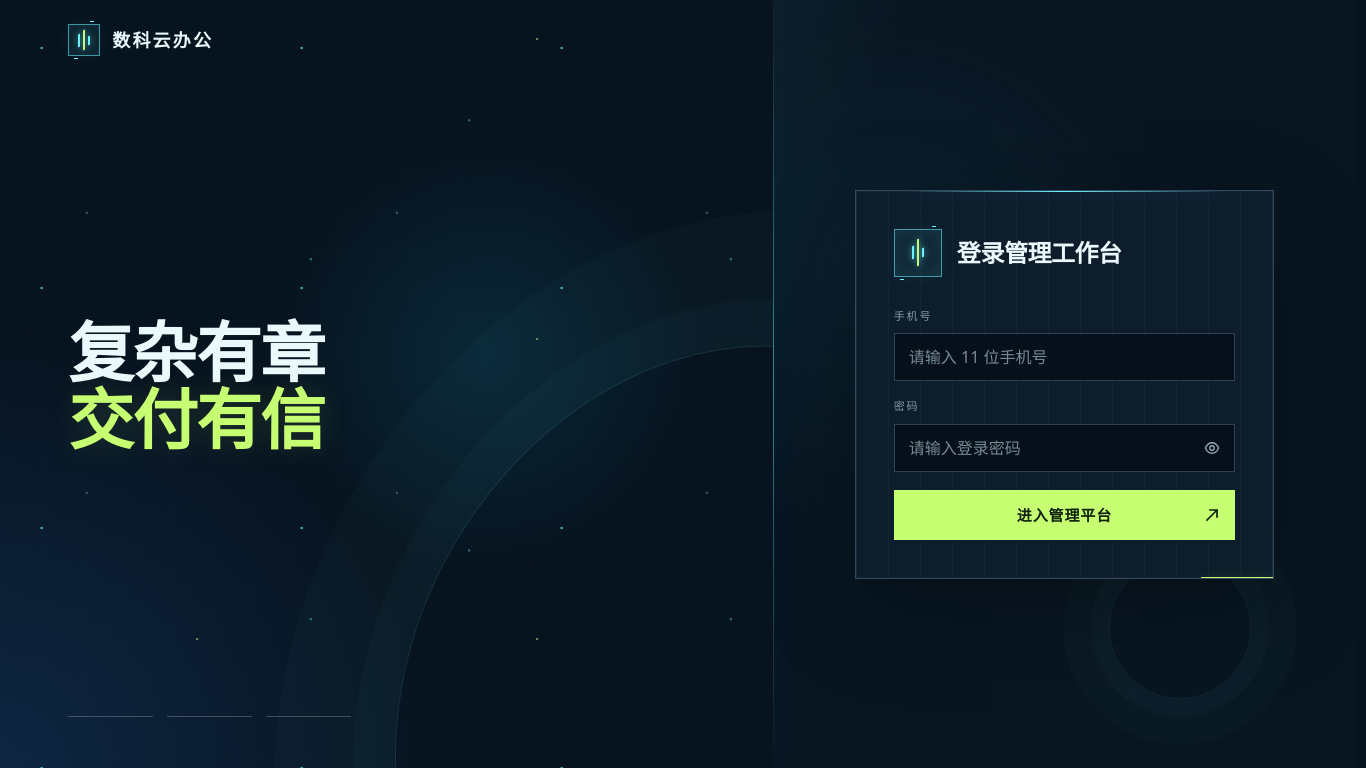
Scenario: LoginPage CTA › returns to an enabled idle button immediately when authentication fails
Type "13800138000" into the field labelled "手机号" at (1064, 357), box x1=894 y1=333 x2=1235 y2=381
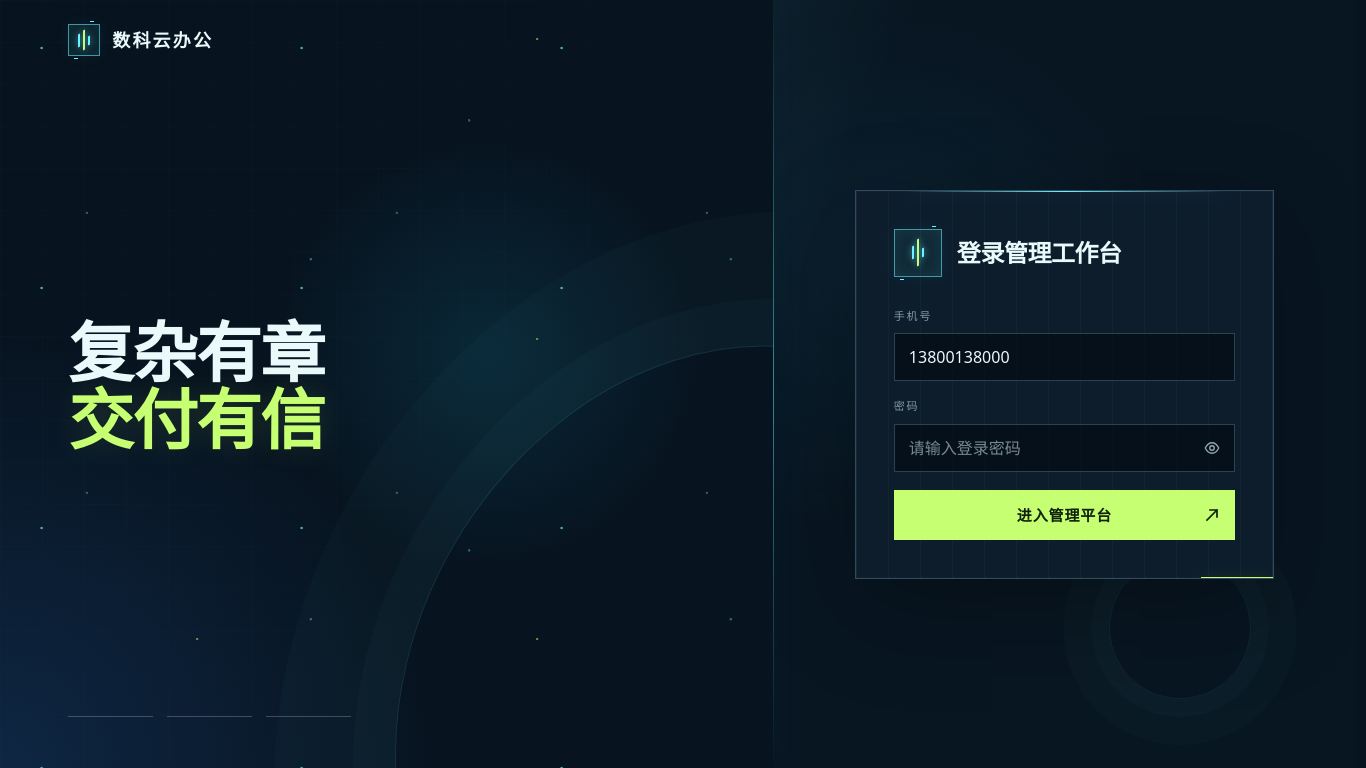
Type "secret" into the password field labelled "密码" at (1064, 448), box x1=894 y1=424 x2=1235 y2=472
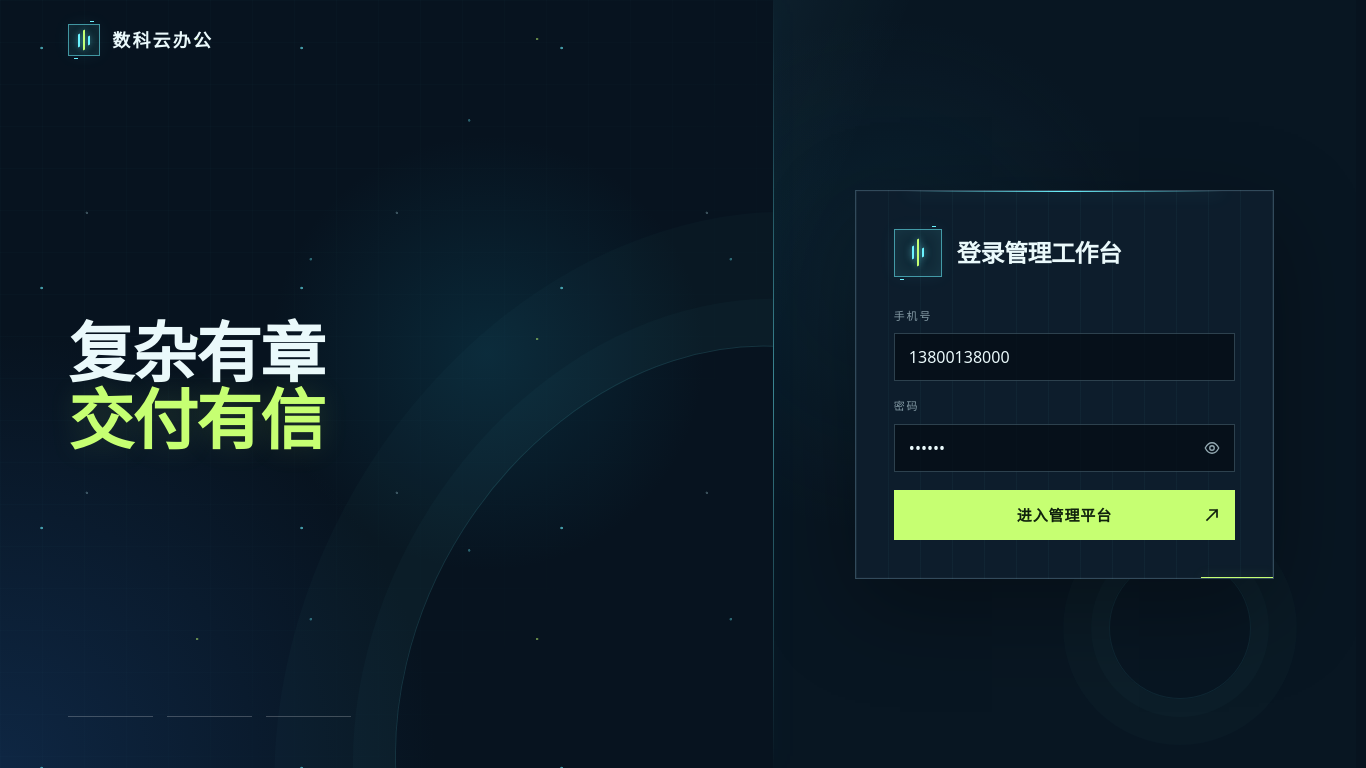
Submit the form labelled "手机号", box x1=894 y1=308 x2=1235 y2=540
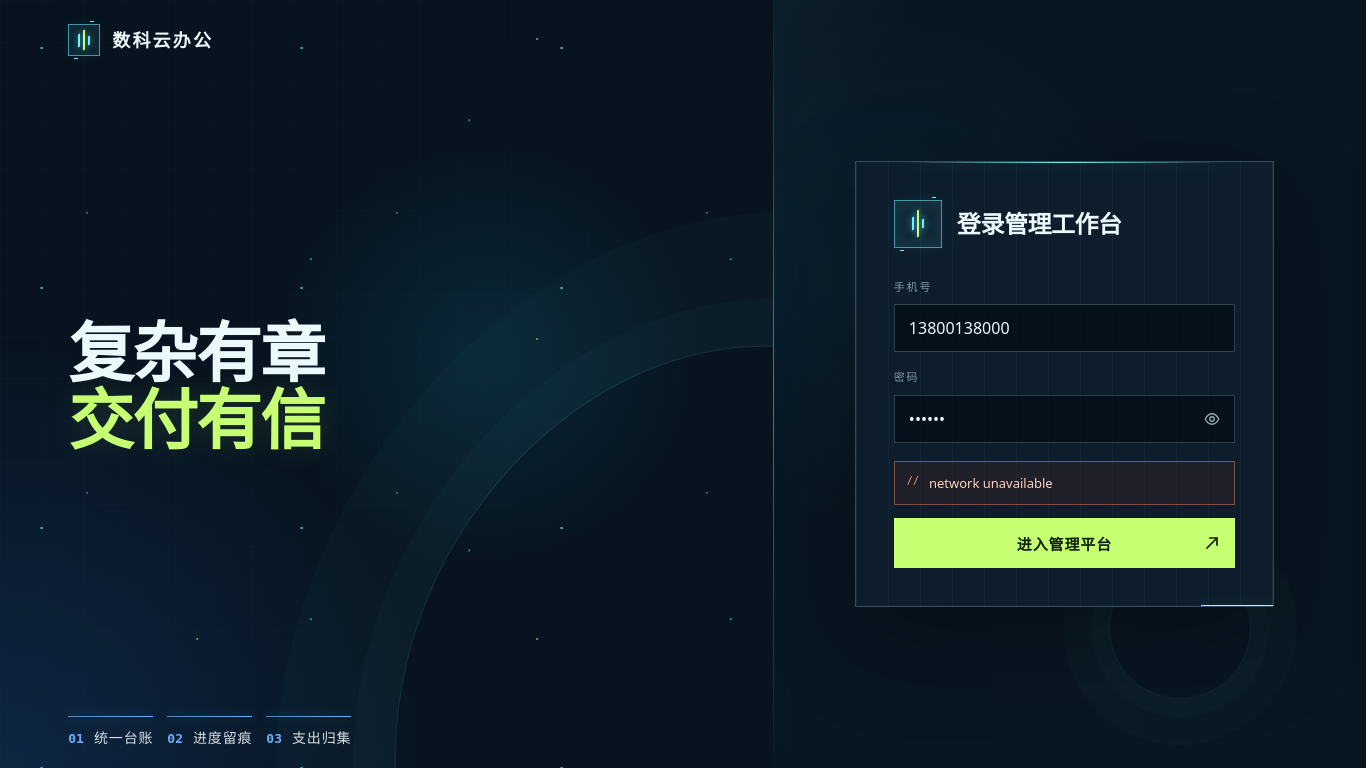
Check: the button "进入管理平台" is enabled, box x1=894 y1=518 x2=1235 y2=568
Check: the message "network unavailable" is shown, box x1=894 y1=461 x2=1235 y2=505
Check: the message reads "network unavailable", box x1=929 y1=474 x2=1053 y2=492
